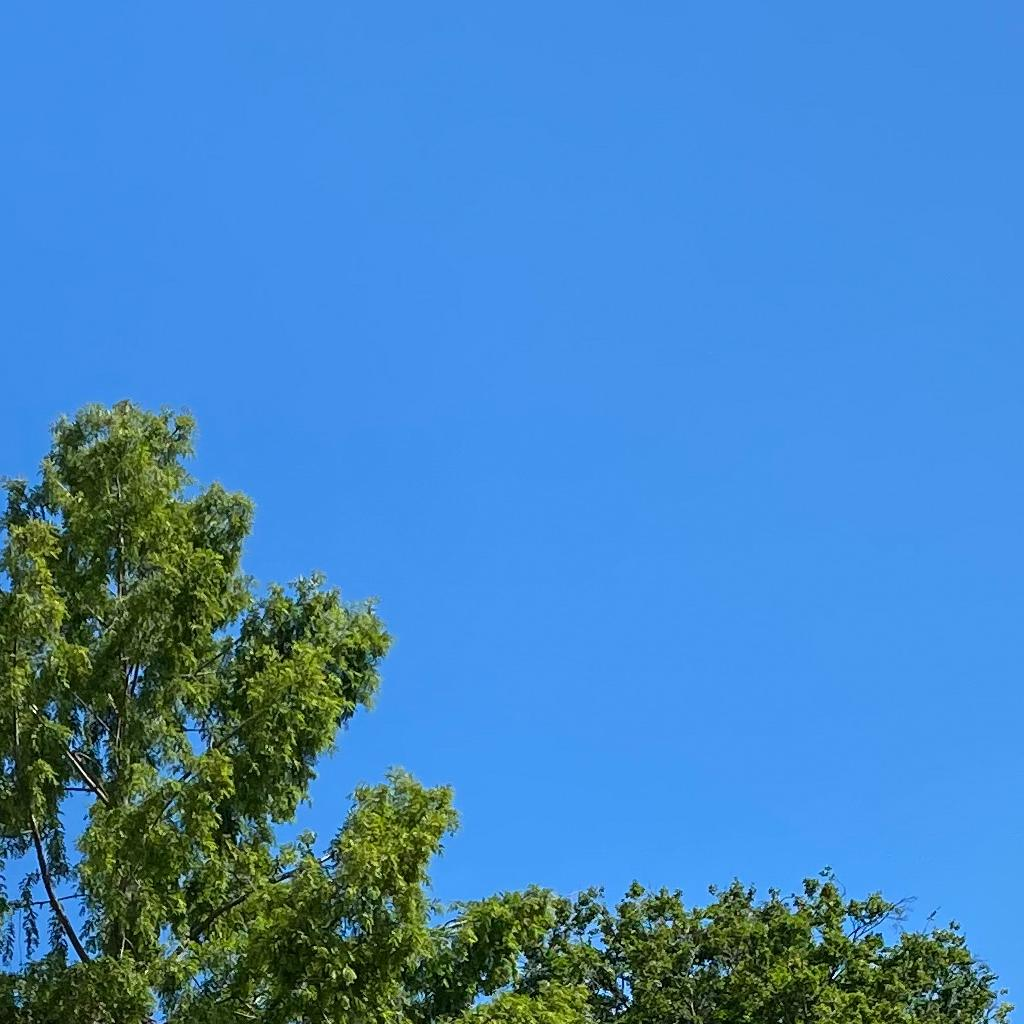tree: (1, 397, 595, 1024), (426, 864, 1016, 1024)
